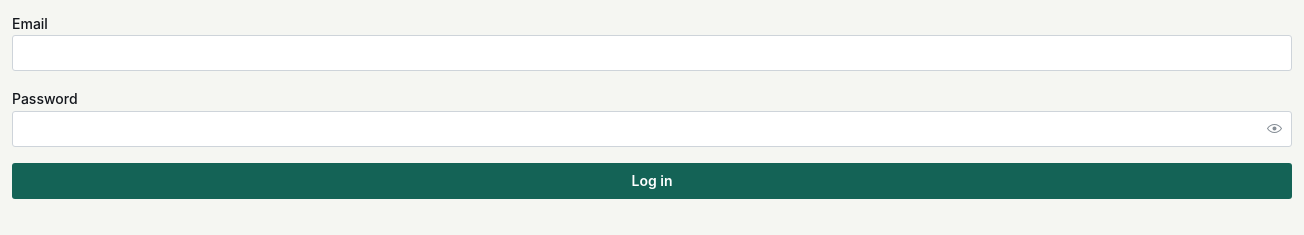
Test case: LoginForm › blocks submission and shows a visible error when the email is not valid
Type "not-an-email" into the field labelled "Email" at x=652, y=53, box [12,35,1292,71]
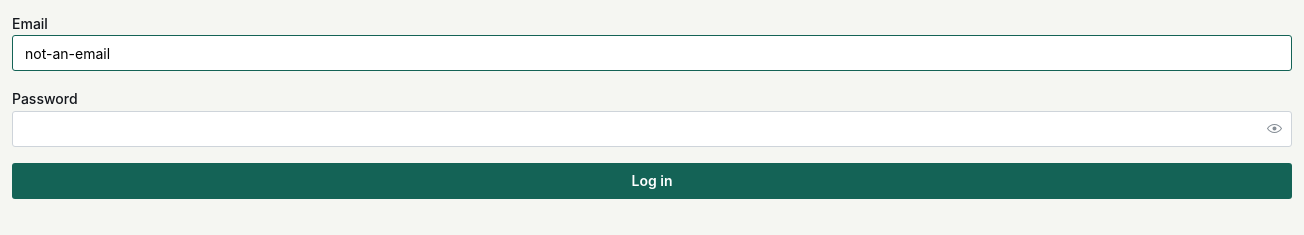
Type "whatever" into the password field labelled "Password" at x=652, y=128, box [13,112,1291,146]
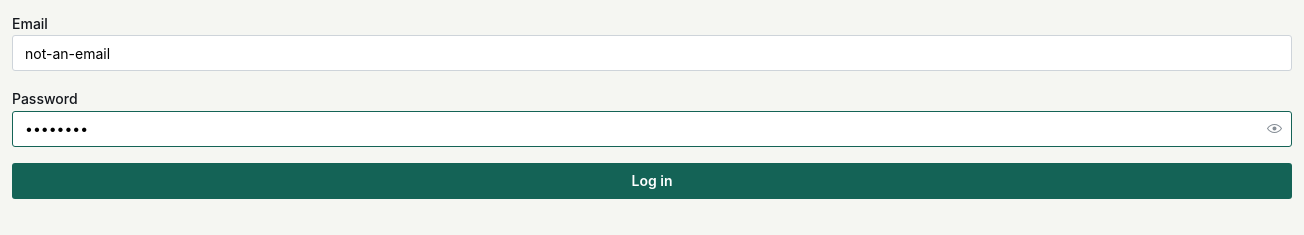
Click the button "Log in" at x=652, y=180, box [12,162,1292,198]
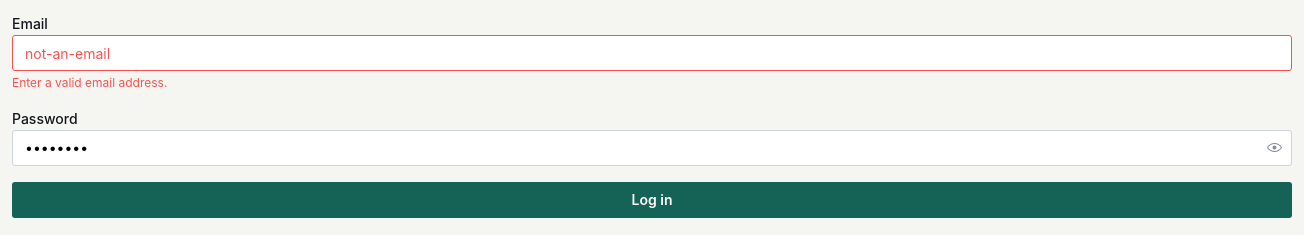
Result: the text "Enter a valid email address." is shown at [12,75,167,90]
